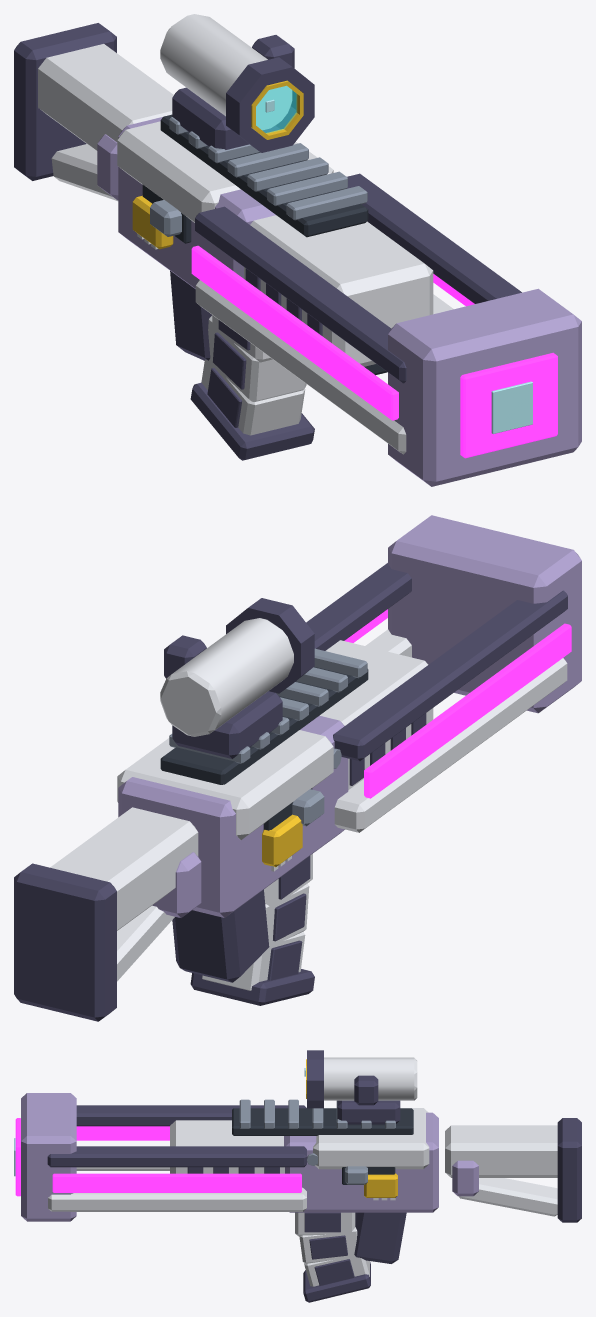
Rendered from Future_Beam_v002.fbx.
The picture shows the model from 3 angles, top to bottom: view 1: azimuth 30°, elevation 25°; view 2: azimuth 150°, elevation 25°; view 3: azimuth 270°, elevation 25°; orthographic projection. The views are drawn at different scales.
Parts seen in each view (by area): view 1: Future_Beam__RECEIVER_MESH, Future_Beam__MAGAZINE_MESH; view 2: Future_Beam__RECEIVER_MESH, Future_Beam__MAGAZINE_MESH; view 3: Future_Beam__RECEIVER_MESH, Future_Beam__MAGAZINE_MESH.
Part boxes in pixels (box(x1,y1,x2,y2)): Future_Beam__RECEIVER_MESH: box(14, 14, 581, 486); Future_Beam__MAGAZINE_MESH: box(190, 315, 314, 460); Future_Beam__RECEIVER_MESH: box(14, 515, 581, 1021); Future_Beam__MAGAZINE_MESH: box(190, 854, 314, 1005); Future_Beam__RECEIVER_MESH: box(14, 1050, 581, 1263); Future_Beam__MAGAZINE_MESH: box(295, 1212, 370, 1302).
Size of the model in its own units: 0.535 by 1.08 by 2.34.
